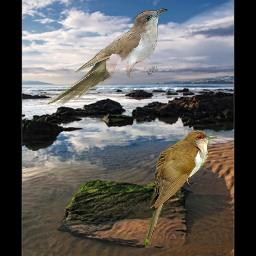Cuckoo: (46, 8, 168, 106), (145, 129, 217, 249)
